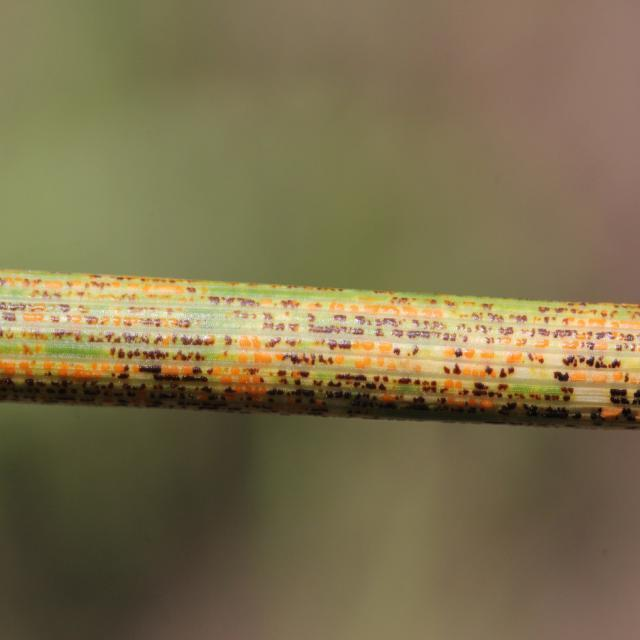Stem Rust: (0, 278, 640, 430)
